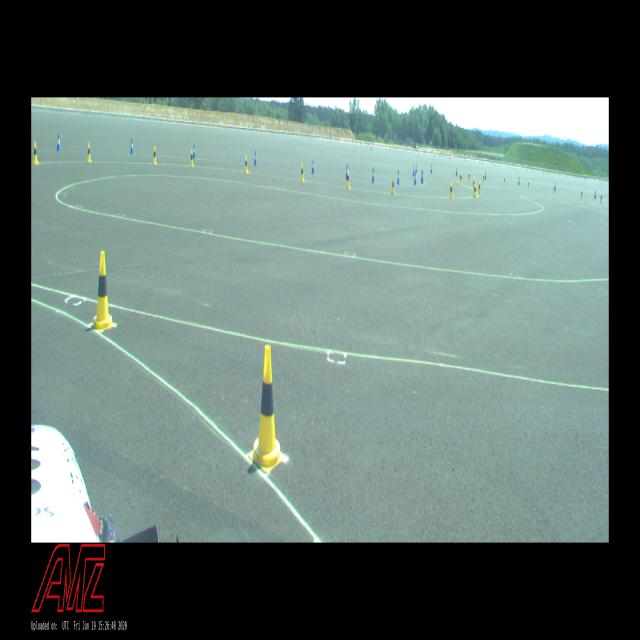blue_cone: (56, 134, 61, 152), (130, 138, 134, 154), (396, 170, 400, 184), (311, 159, 315, 173), (254, 150, 257, 166), (346, 163, 348, 180), (372, 167, 374, 182), (194, 144, 196, 159), (421, 170, 423, 183), (414, 172, 416, 184), (413, 165, 415, 176), (430, 164, 432, 173), (416, 163, 418, 172), (594, 190, 596, 199), (518, 177, 520, 185), (421, 170, 422, 180)
yellow_cone: (249, 344, 284, 474), (91, 251, 114, 331), (32, 142, 39, 165), (86, 142, 92, 163), (300, 162, 305, 182), (152, 146, 157, 164), (244, 155, 248, 173), (449, 181, 453, 199), (190, 148, 194, 166), (346, 170, 350, 188), (391, 177, 395, 194), (478, 181, 481, 194), (474, 185, 476, 198), (472, 177, 474, 190), (460, 172, 462, 184), (600, 192, 602, 203), (580, 189, 582, 199), (468, 171, 470, 181), (553, 184, 555, 194), (482, 173, 484, 183), (528, 180, 530, 189), (504, 176, 506, 184)
